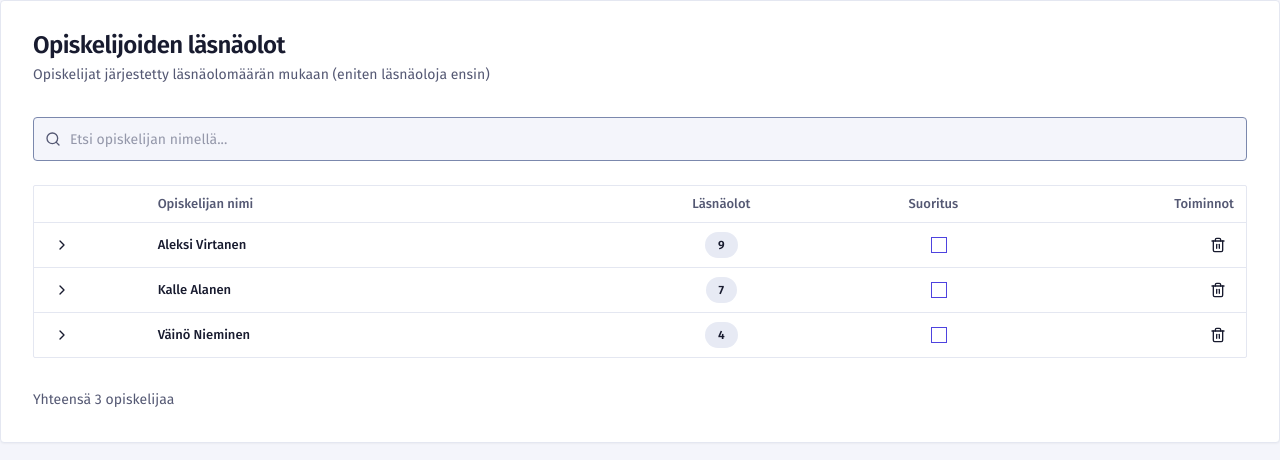
the Läsnäolot search box while a search runs › fades the old rows only once an answer has taken longer than 300 ms
The width and height of the screenshot is (1280, 460).
In the field with placeholder "Etsi opiskelijan nimellä...": (640, 139) [33, 117, 1247, 161], type "al"
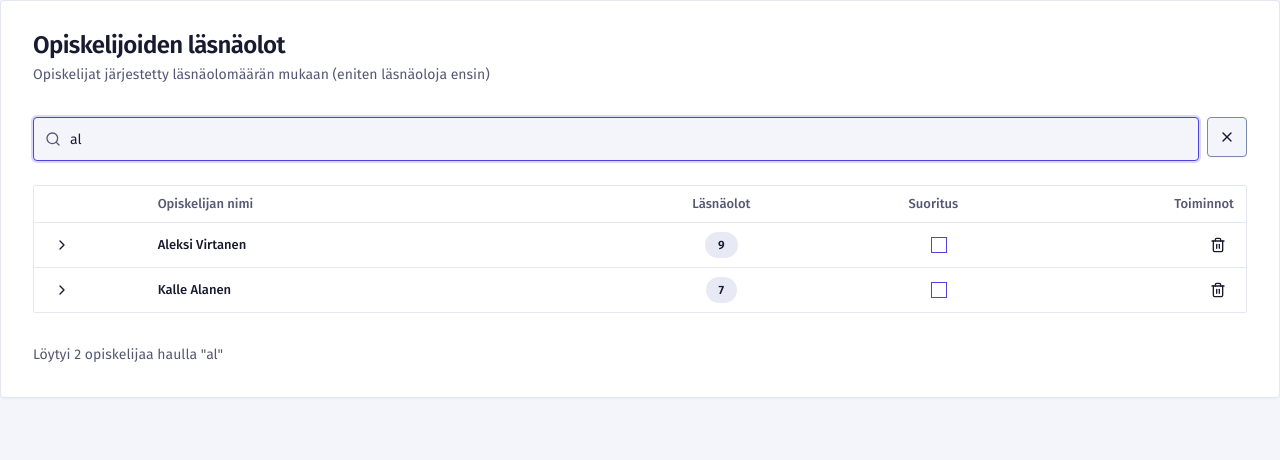
Expected: the text "Löytyi 2 opiskelijaa haulla \"al\"" is shown, [33, 346, 223, 362]
